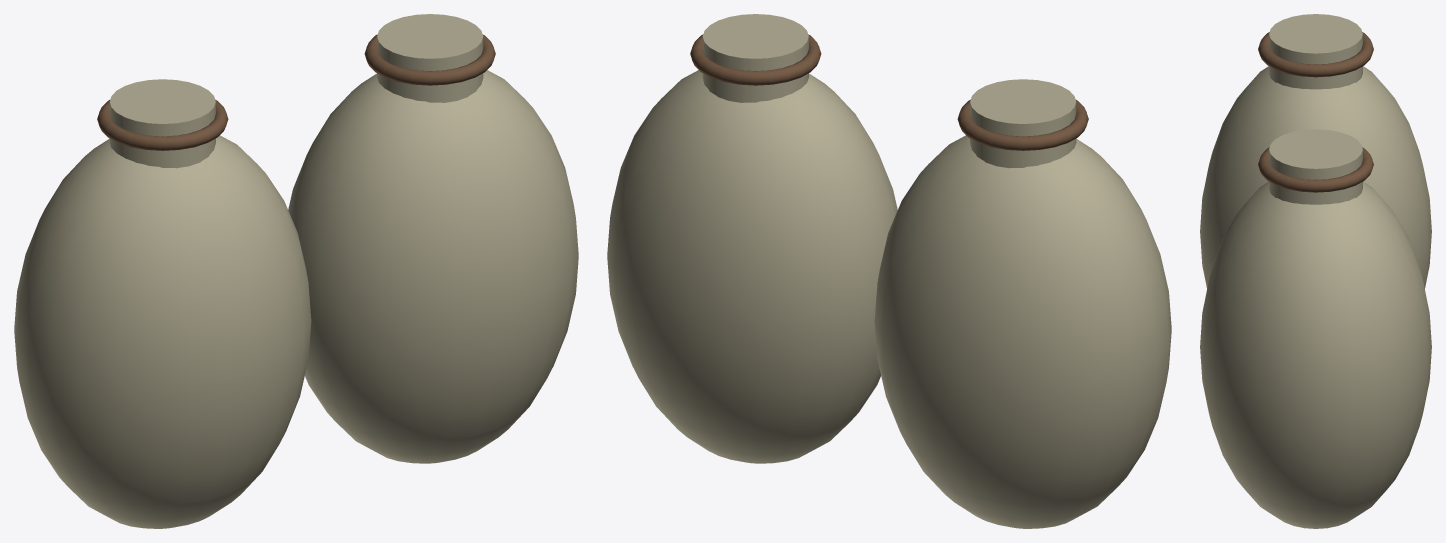
The model's file is undercity-sewers-and-thieves-den-coin-sacks-8cf75fbb__27252.glb.
3 views of the same model, side by side, from view 1: azimuth 30°, elevation 25°; view 2: azimuth 150°, elevation 25°; view 3: azimuth 270°, elevation 25° (orthographic). The views are drawn at different scales.
Visible parts, largest first — view 1: coin-sacks; view 2: coin-sacks; view 3: coin-sacks.
Part boxes in pixels (box(x1,y1,x2,y2)): coin-sacks: box(14, 14, 578, 528); coin-sacks: box(607, 14, 1171, 528); coin-sacks: box(1200, 14, 1431, 528).
Bounding box in the file's own units: 0.64 × 0.48 × 0.272.
